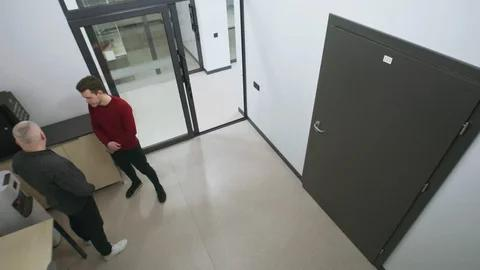long sleeve shirt: (11, 149, 96, 215)
sweater: (86, 96, 140, 150)
trousers: (65, 193, 113, 256), (109, 142, 163, 189)
